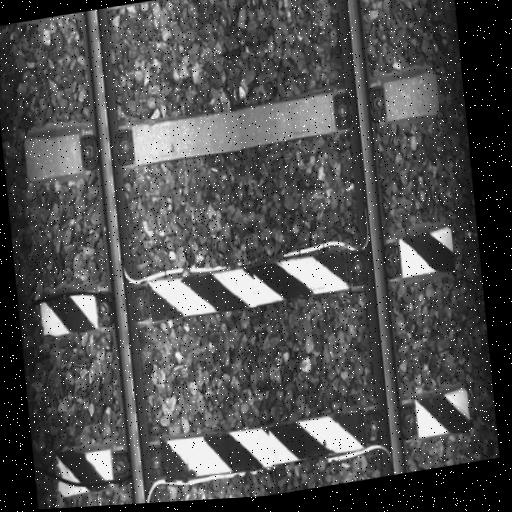clip: (346, 239, 405, 286), (111, 444, 169, 486), (332, 87, 387, 131), (367, 403, 419, 448), (97, 285, 153, 325), (81, 129, 134, 170)
sleeper: (34, 212, 459, 342), (20, 58, 443, 185), (51, 377, 474, 503)
